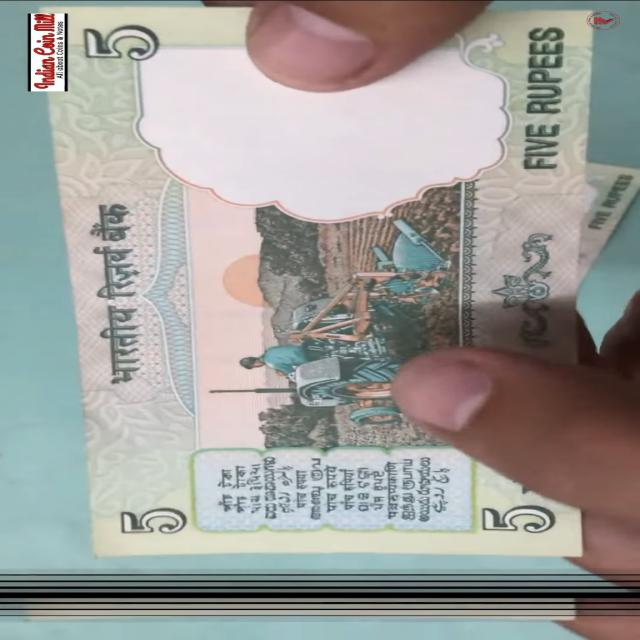5IndianRupees: (62, 0, 588, 553)
